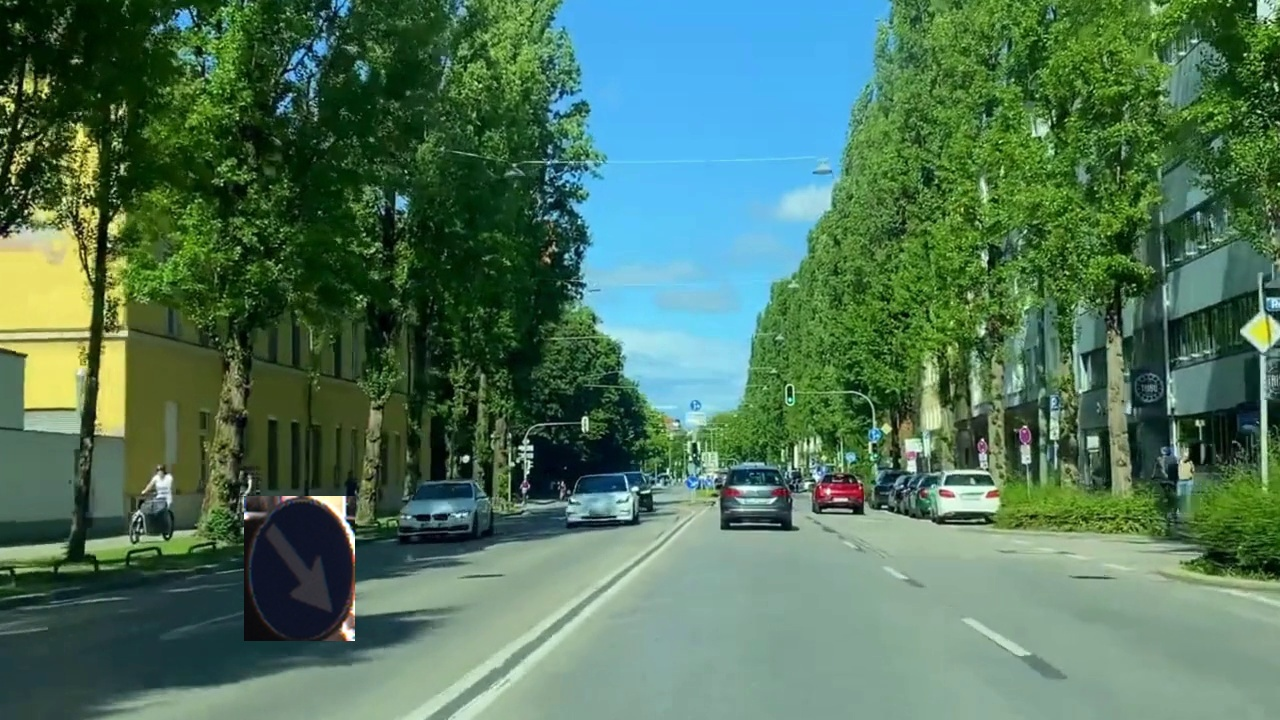Keep right: (244, 496, 355, 641)
